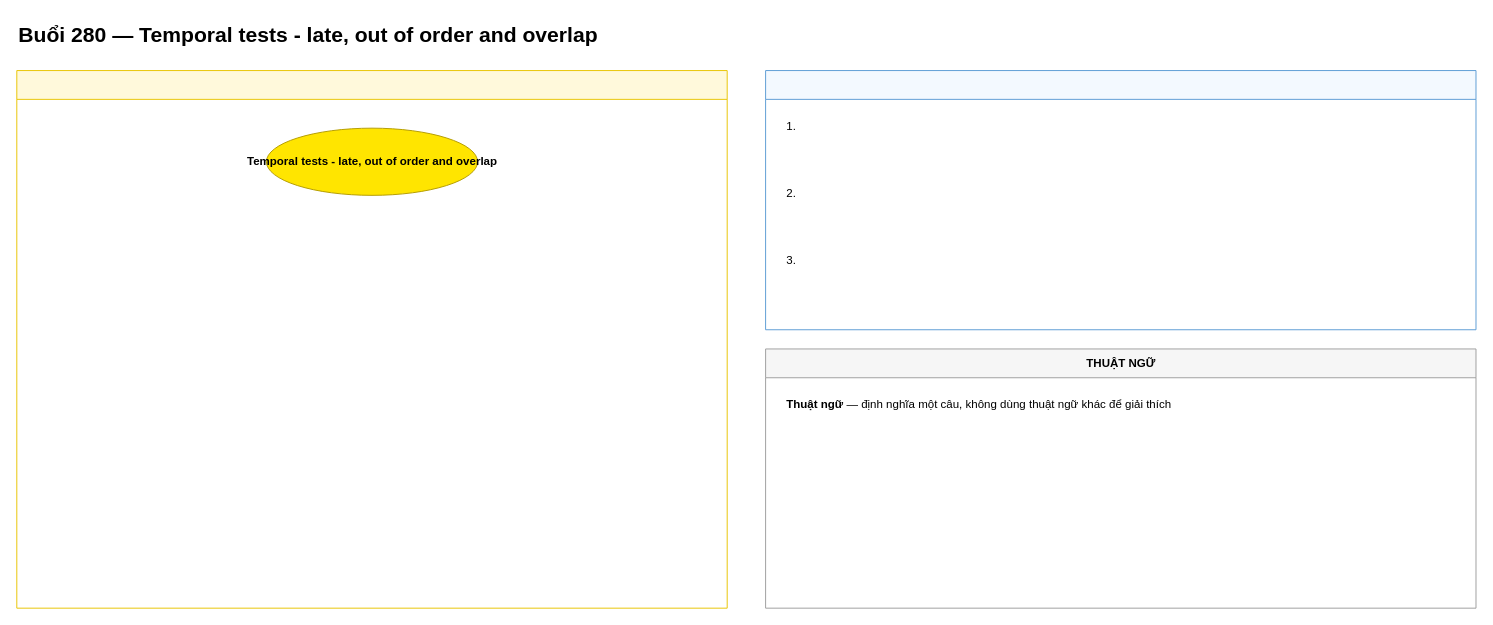
This 1493x625 diagram has some shape labels left out. Each missing label, with the box of its shape:
KEY TAKEAWAY — ba điều phải nhớ: (765, 70, 1476, 330)
MINDMAP: (16, 70, 727, 608)
